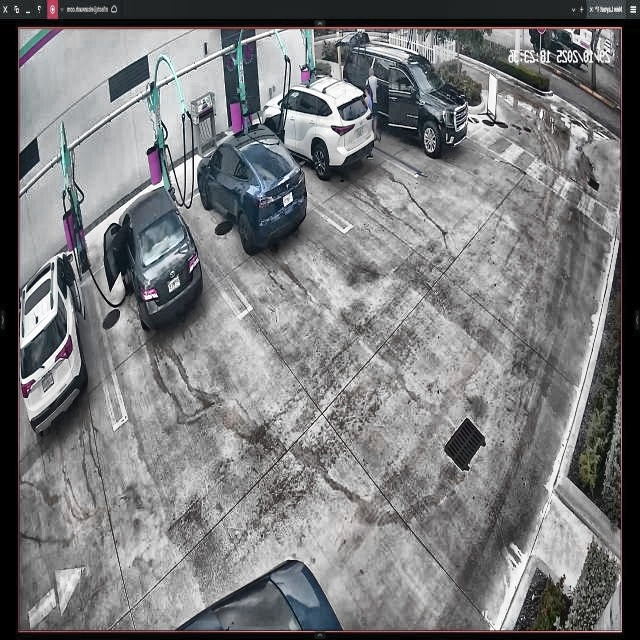Car: (197, 122, 305, 252), (105, 187, 201, 326), (263, 80, 373, 178)
